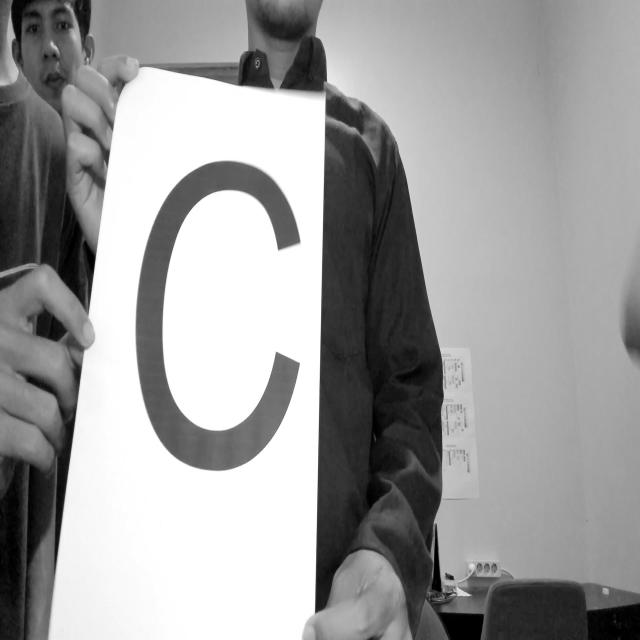c: (127, 150, 307, 482)
